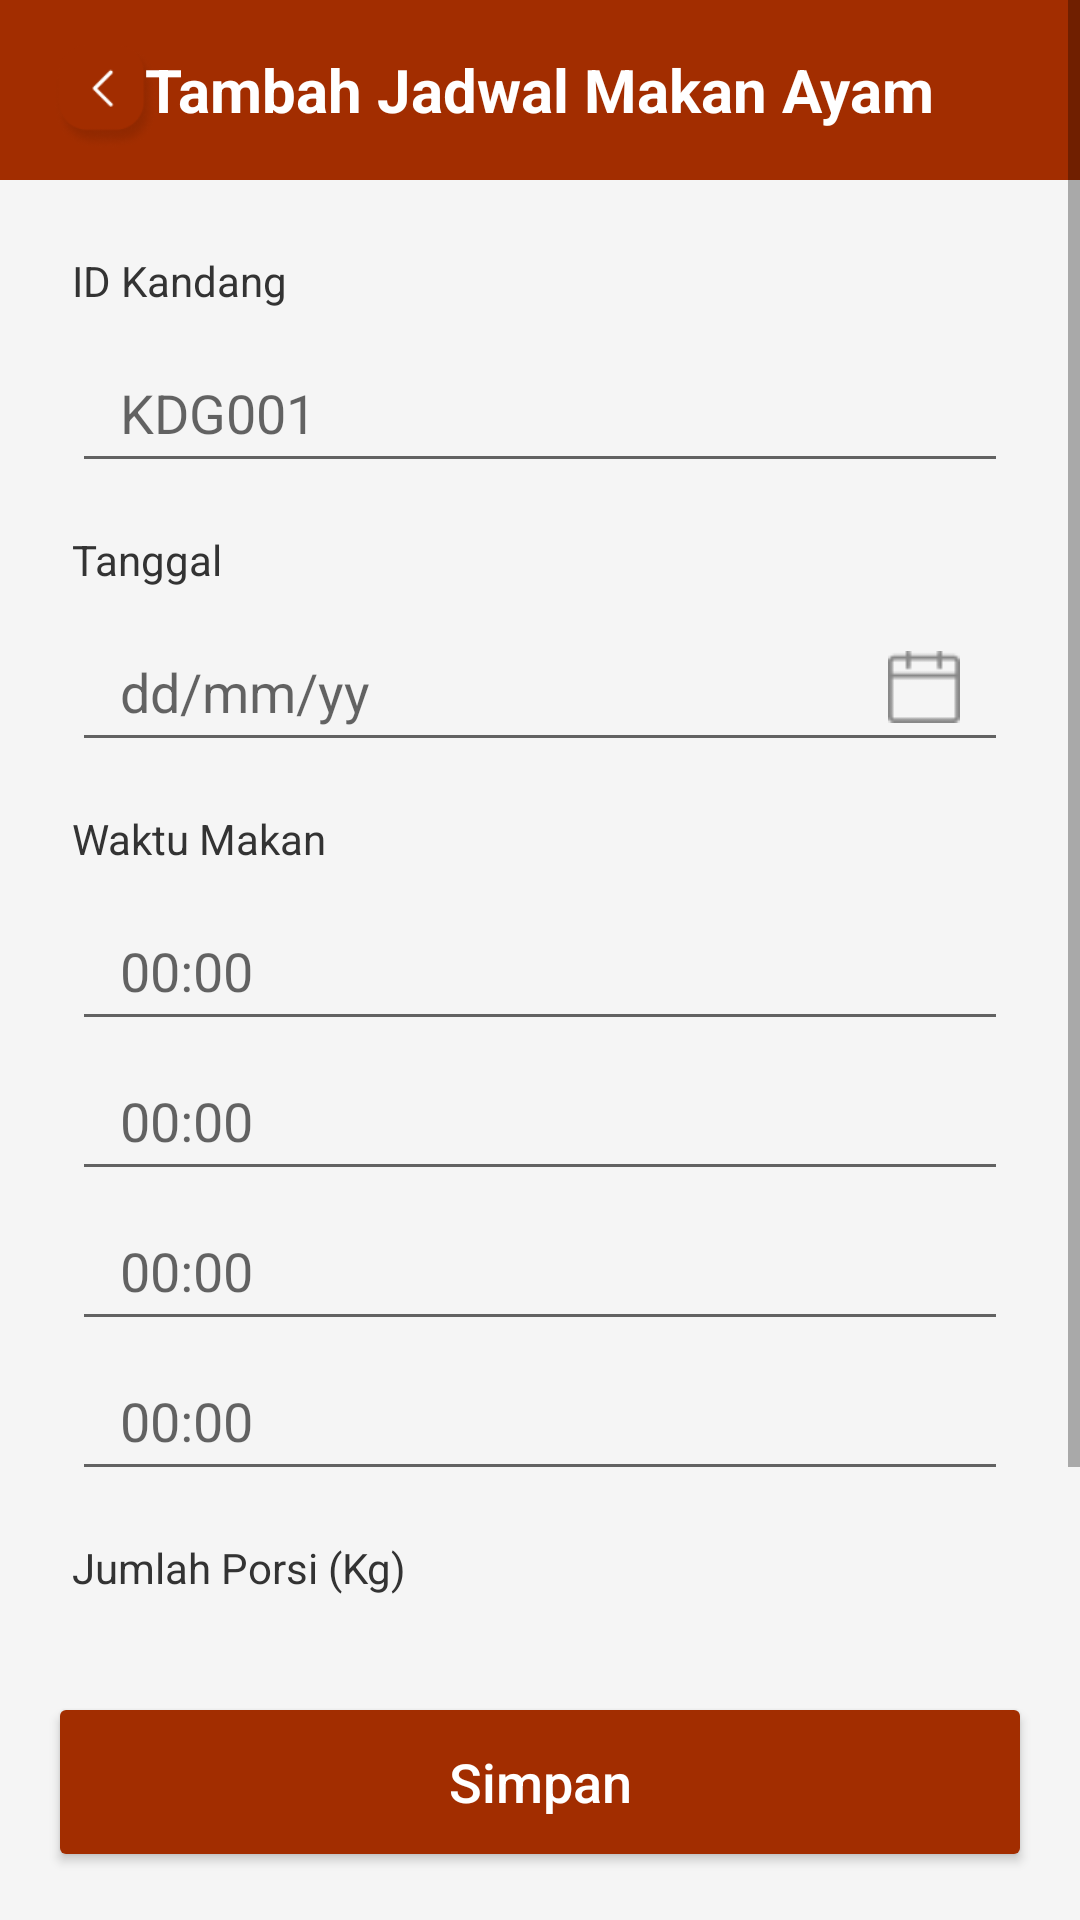

Icons on this 1080w x 1920h Android screen, each with its box as rect(x1, y1, x2, y2):
calendar: rect(888, 651, 960, 723)
